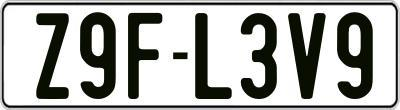3: (240, 13, 279, 101)
9: (335, 12, 373, 105), (79, 11, 115, 102)
F: (127, 13, 167, 101)
L: (193, 10, 236, 101)
V: (288, 13, 329, 104)
Z: (36, 11, 73, 99)
